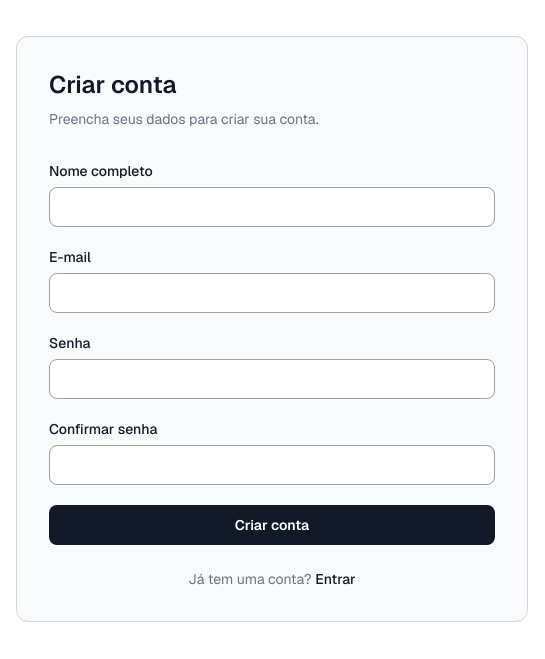
RegisterPage › deve rejeitar quando as senhas não coincidirem
Type "Guilherme Nobre" into the field labelled "Nome completo" at (272, 207), box [49,187,495,227]
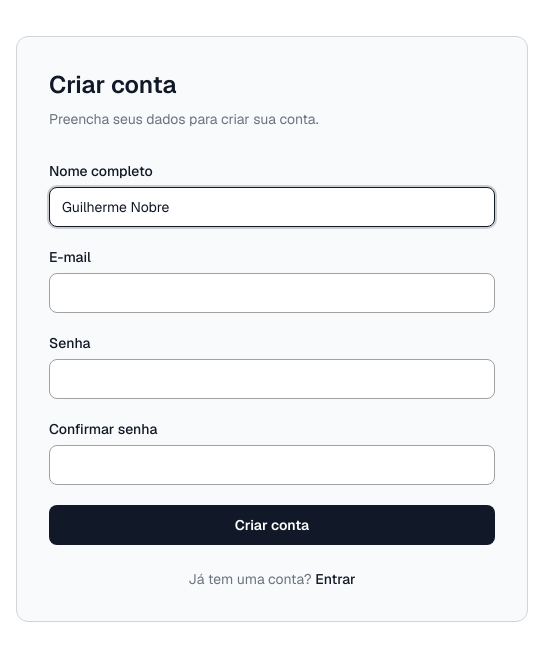
Type "guilherme@example.com" into the field labelled "E-mail" at (272, 293), box [49,273,495,313]
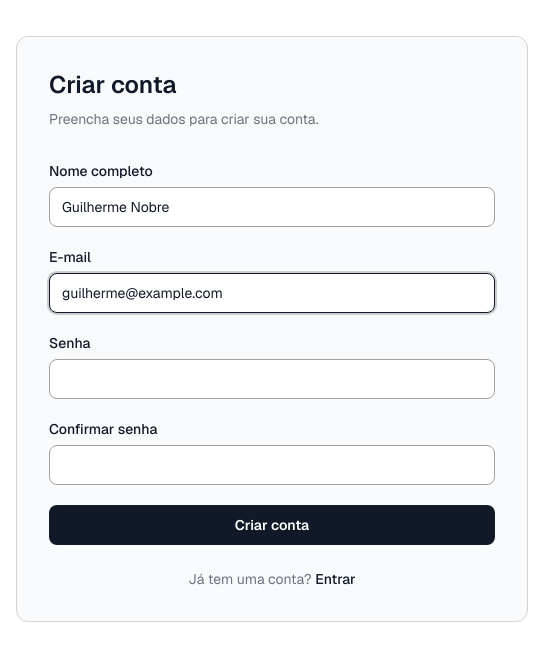
Type "12345678" into the password field labelled "Senha" at (272, 379), box [49,359,495,399]
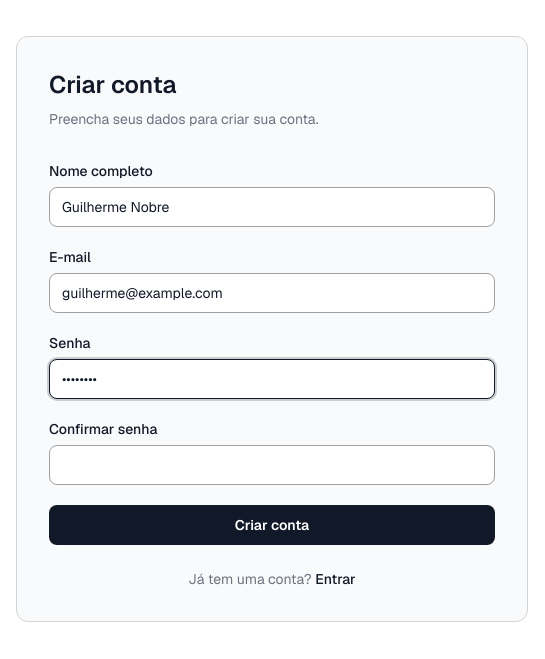
Type "87654321" into the password field labelled "Confirmar senha" at (272, 465), box [49,445,495,485]
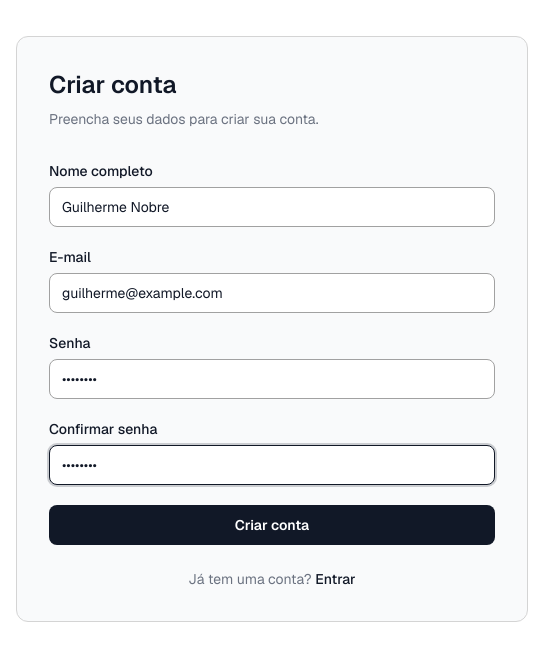
Click the button "Criar conta" at (272, 525), box [49,505,495,545]
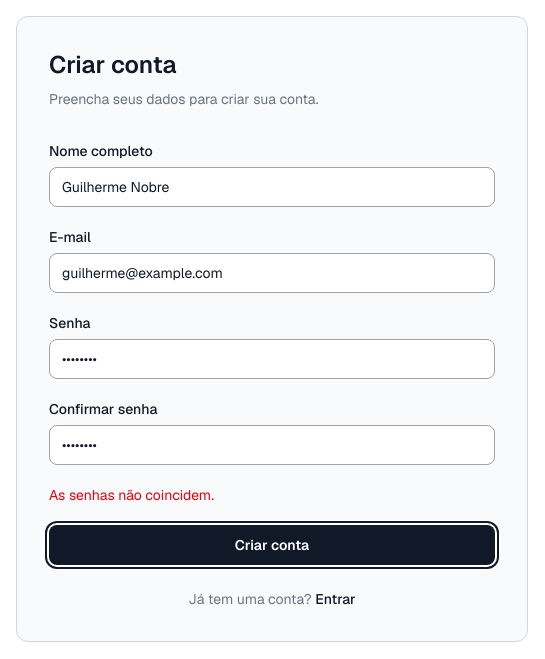
Check: the message reads "As senhas não coincidem.", box [49,486,214,504]
